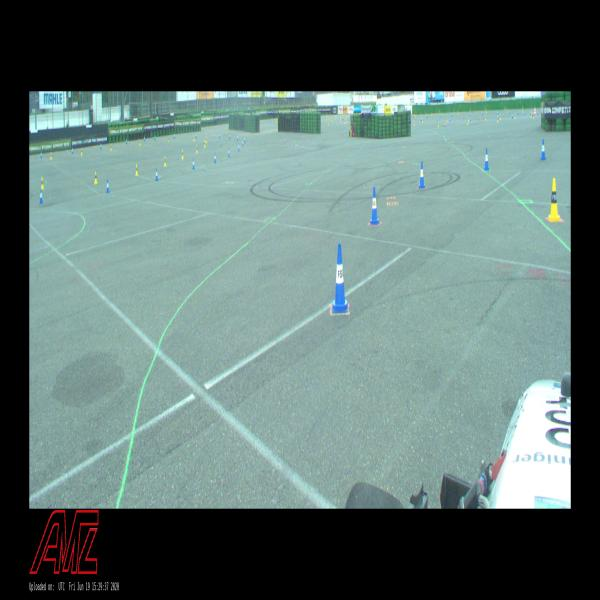blue_cone: (332, 243, 348, 313), (370, 186, 380, 225), (419, 162, 425, 188), (540, 139, 546, 160), (484, 148, 489, 170), (39, 188, 43, 204), (106, 180, 110, 192), (192, 158, 195, 169), (156, 168, 158, 180), (228, 148, 230, 157), (214, 153, 216, 162), (40, 150, 42, 158), (229, 132, 231, 140), (242, 139, 244, 146), (238, 144, 240, 150), (100, 143, 102, 149), (154, 134, 156, 140), (195, 133, 197, 138), (237, 134, 238, 141), (72, 147, 73, 154), (219, 132, 220, 138), (244, 136, 245, 142), (174, 133, 175, 139), (144, 136, 145, 142), (126, 139, 127, 144)
yellow_cone: (547, 178, 561, 222), (94, 172, 98, 183), (135, 164, 138, 176), (41, 178, 44, 189), (164, 156, 167, 166), (50, 152, 52, 160), (196, 144, 198, 152), (110, 144, 112, 150), (193, 135, 195, 141), (168, 136, 170, 142), (204, 141, 206, 147), (205, 137, 207, 143), (182, 150, 183, 158), (81, 148, 82, 155), (139, 139, 140, 145)
